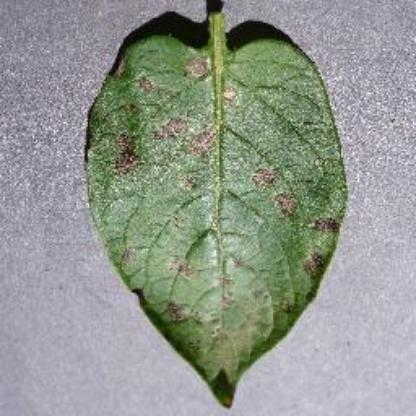Early-Blight: (81, 3, 351, 404)
